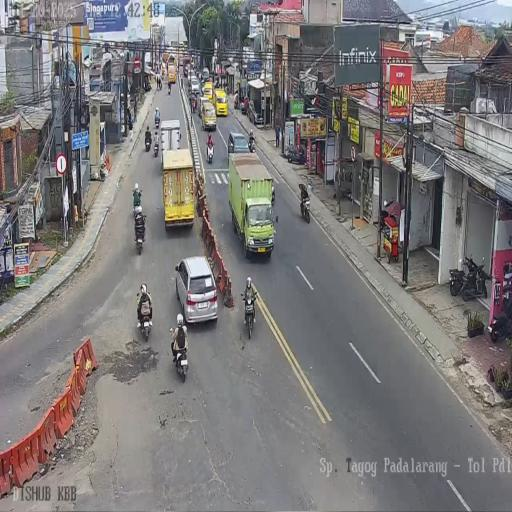3: (228, 154, 274, 261), (162, 147, 196, 231), (160, 118, 181, 154), (183, 55, 190, 76), (162, 50, 169, 62)
car: (174, 256, 218, 325), (227, 132, 251, 158), (200, 99, 216, 131), (214, 87, 228, 118), (190, 76, 200, 98), (167, 63, 176, 84), (178, 50, 184, 68), (202, 68, 209, 82)
truck: (460, 253, 488, 302), (488, 288, 511, 342), (169, 329, 188, 382), (241, 288, 258, 338), (285, 143, 306, 165), (449, 268, 465, 296), (140, 306, 152, 340), (134, 221, 144, 254), (206, 139, 214, 164), (240, 96, 249, 116), (144, 132, 152, 152), (248, 135, 256, 153), (154, 108, 161, 128), (153, 137, 159, 158), (192, 94, 197, 112), (157, 78, 162, 91), (180, 73, 183, 87), (168, 82, 171, 95)
